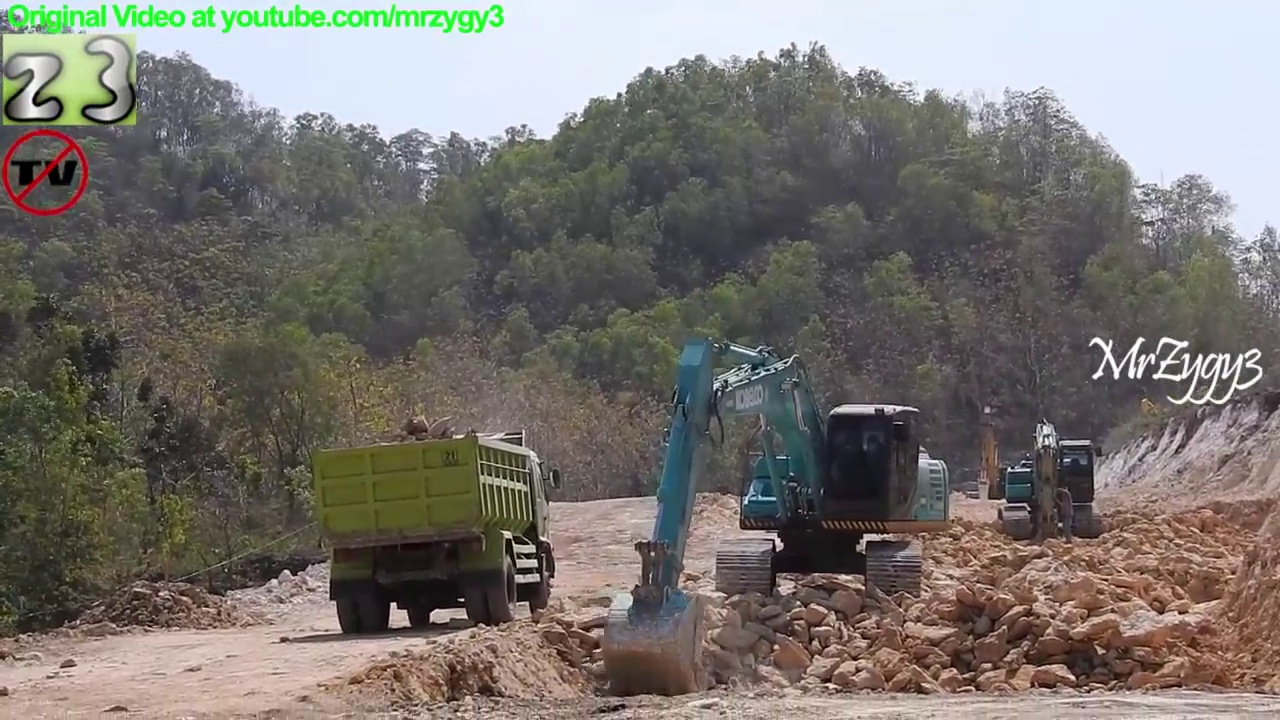excavator: (600, 330, 958, 700), (955, 399, 1031, 510)
excavator breaker: (995, 414, 1110, 547)
truck: (307, 426, 564, 637)
worker: (1051, 482, 1082, 548)
